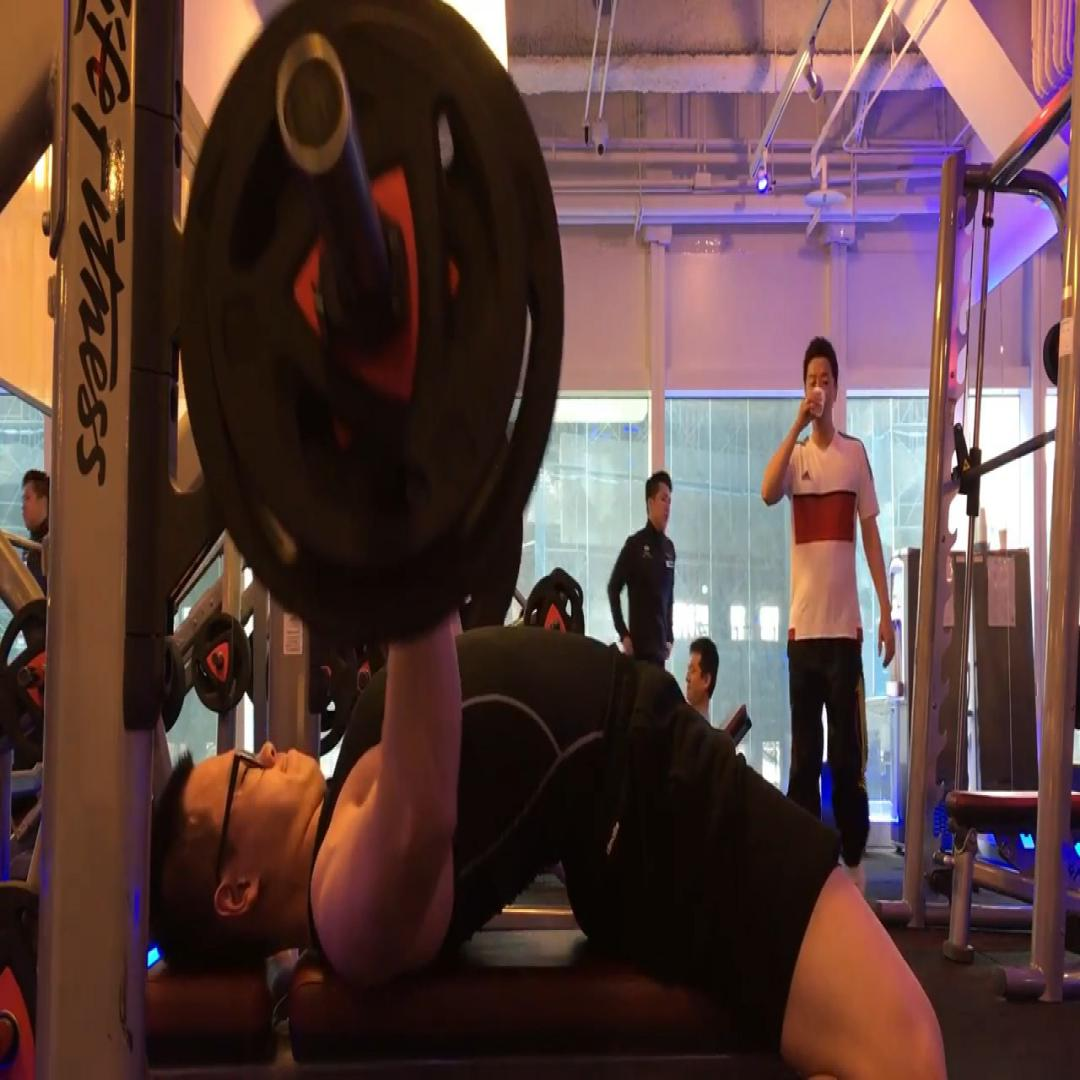Bar: (273, 29, 353, 182)
Barbell: (171, 0, 566, 648)
